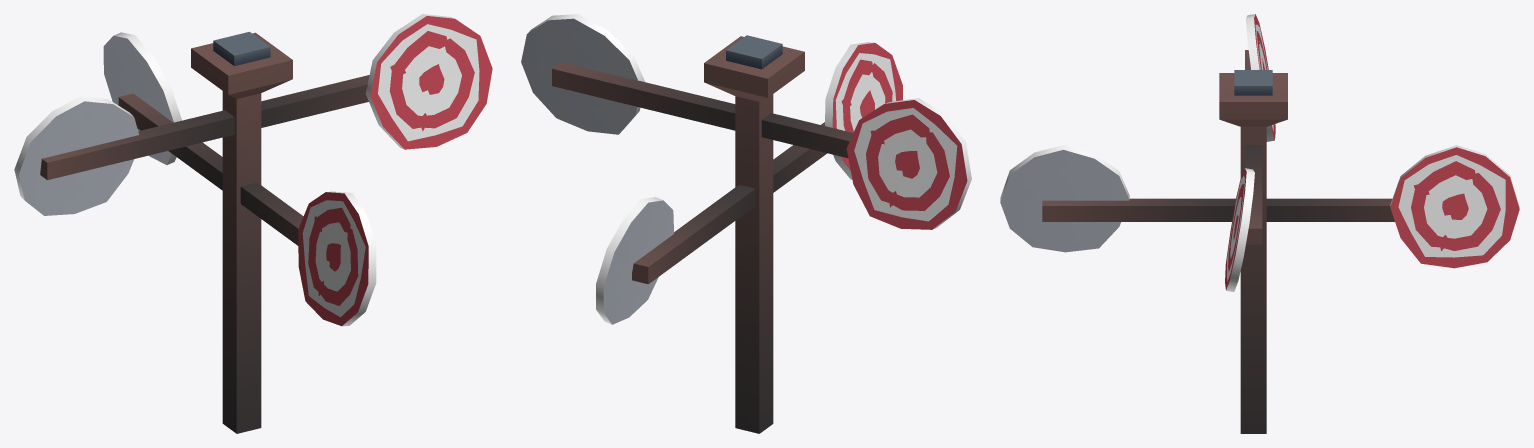
The model's file is RotTargetX4.fbx.
The picture shows the model from 3 angles, left to right: view 1: azimuth 30°, elevation 25°; view 2: azimuth 150°, elevation 25°; view 3: azimuth 270°, elevation 25°; orthographic projection. The views are drawn at different scales.
Visible parts, largest first — view 1: RotTargetX4; view 2: RotTargetX4; view 3: RotTargetX4.
Boxes of the visible parts, <box> form: RotTargetX4: <box>14,14,492,433</box>; RotTargetX4: <box>521,14,971,433</box>; RotTargetX4: <box>1000,14,1519,433</box>.
Bounding box in the file's own units: 94.49 × 74.66 × 100.
